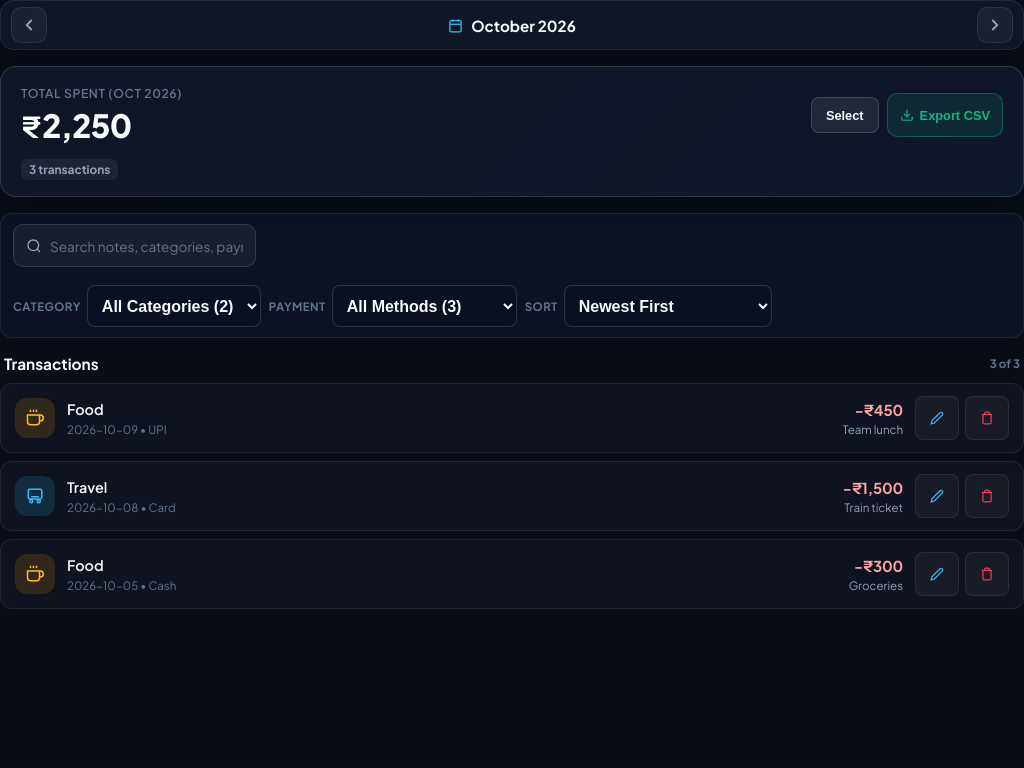
Scenario: ExpensesView filter visibility and clearing behavior (DEF-04) › displays active-filters-banner with transaction counts when category filter is selected
Select "Food" in the dropdown with id "filter-category-select": (174, 306) [87,285,261,327]
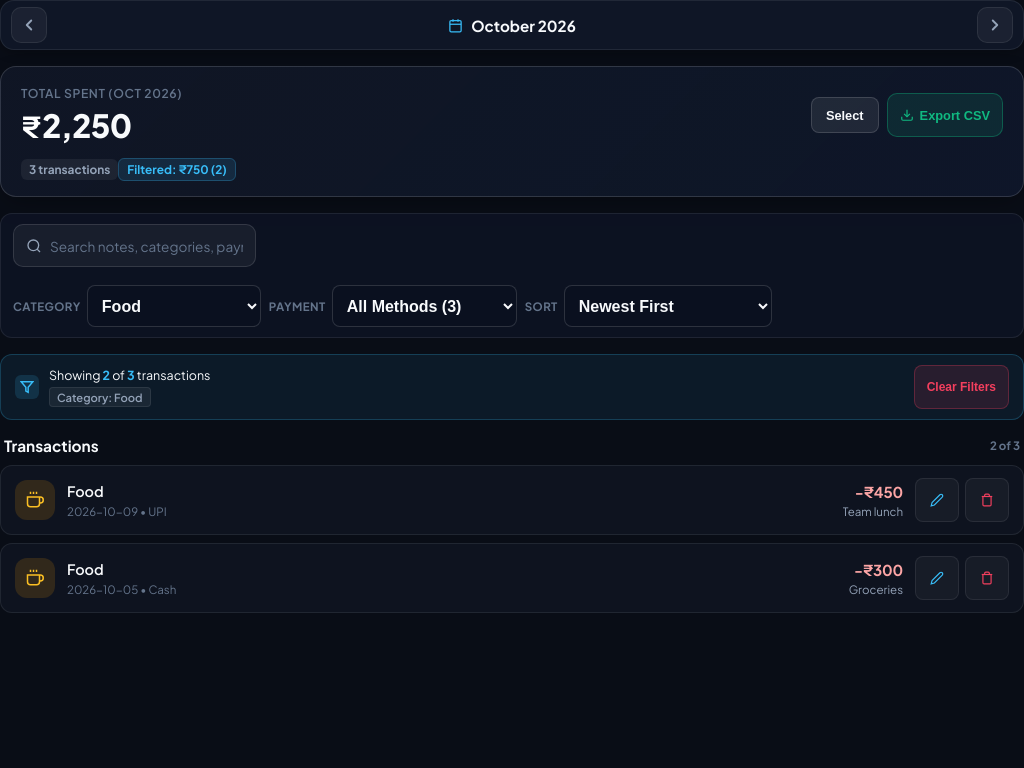
Check: the message "Showing 2 of 3 transactions Category: Food Clear Filters" is shown, box [0,354,1023,420]
Check: the element with class "active-filters-count-text" reads "Showing 2 of 3 transactions", box [49,367,210,383]
Check: the text with class "active-filter-tag" reads "Category: Food", box [49,387,151,407]
